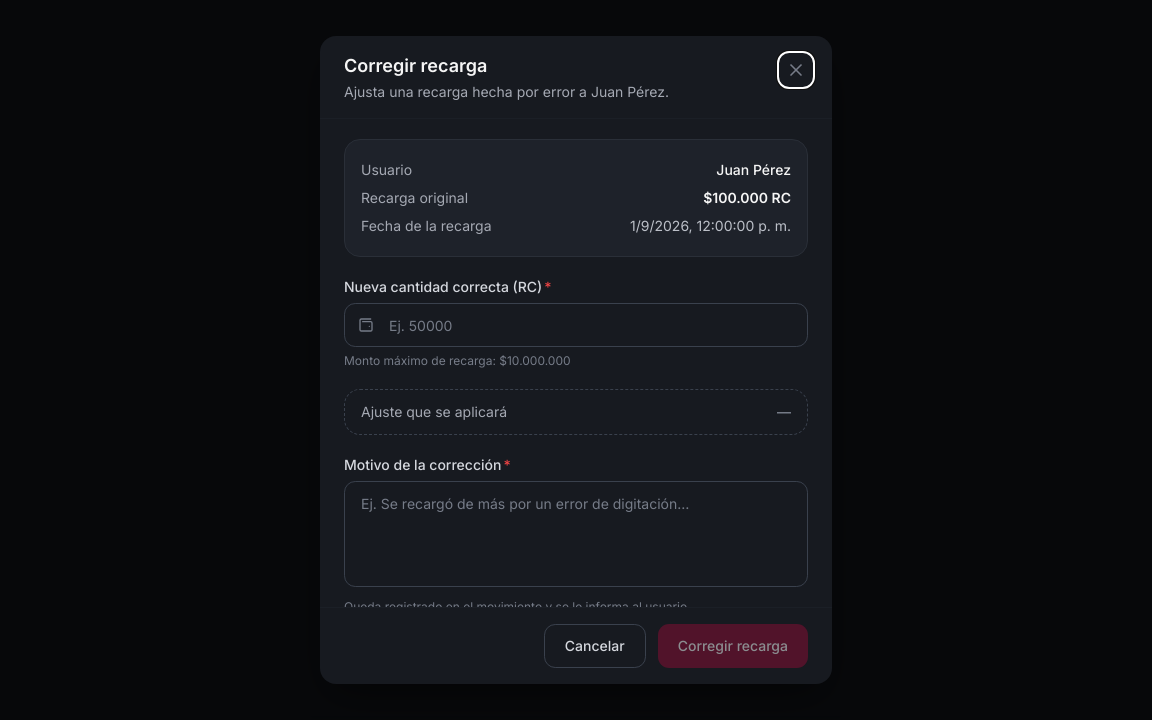
Test: CorrectRechargeModal › rechaza una nueva cantidad superior a $10.000.000
Type "Cantidad correcta" into the text box labelled "Motivo de la corrección*" at (576,534), box left=344, top=481, right=808, bottom=587
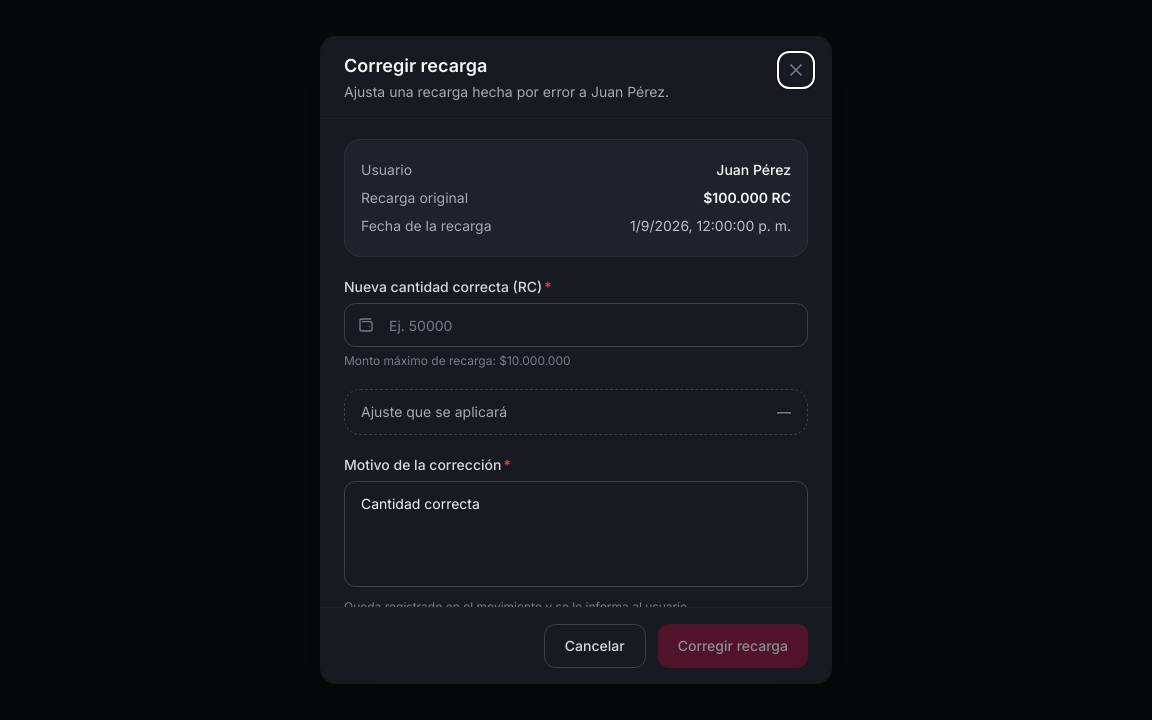
Type "10000001" into the field labelled "Nueva cantidad correcta (RC)*" at (576,325), box left=344, top=303, right=808, bottom=347
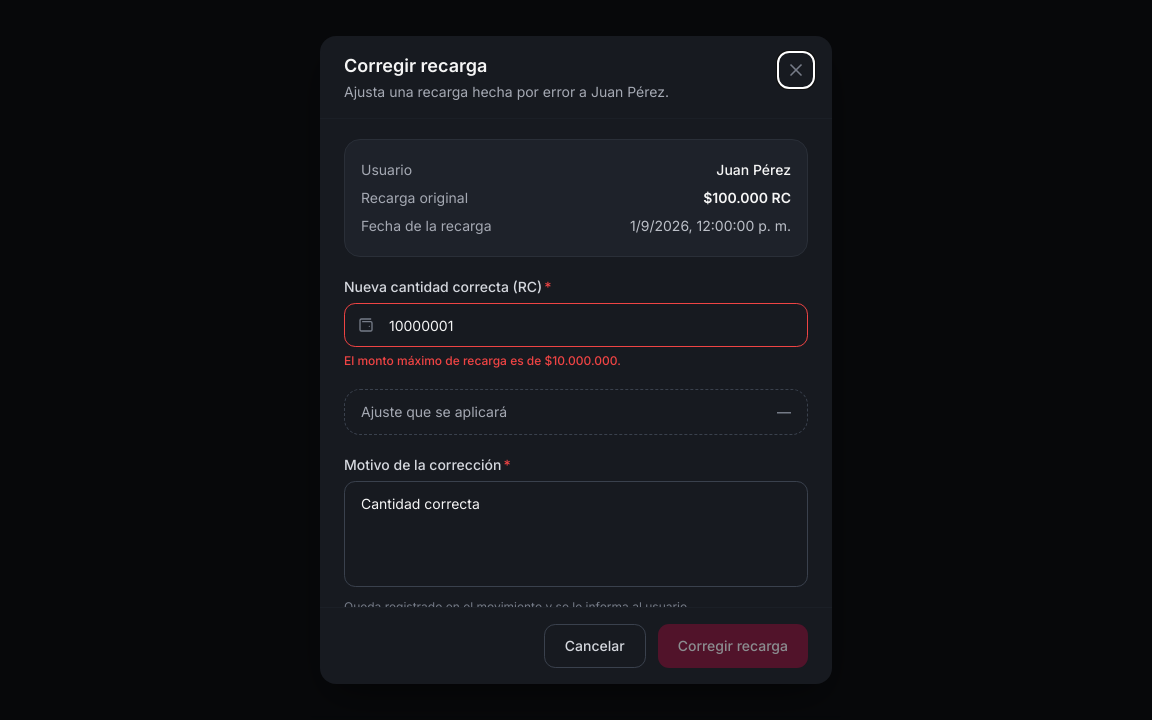
Expected: the button "Corregir recarga" is disabled, left=658, top=624, right=808, bottom=668
Result: the text "El monto máximo de recarga es de $10.000.000." is shown at left=344, top=353, right=621, bottom=368
